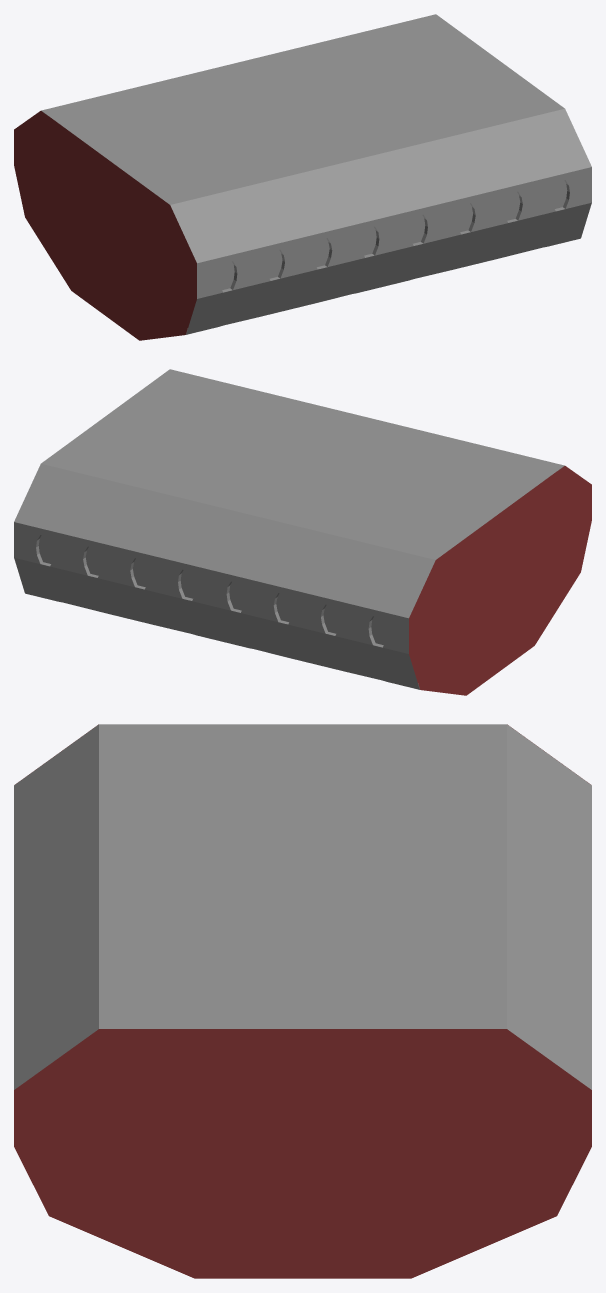
The model's file is shipp.FBX.
3 renders of one model, top to bottom at view 1: azimuth 30°, elevation 25°; view 2: azimuth 150°, elevation 25°; view 3: azimuth 270°, elevation 25°, orthographic. The views are drawn at different scales.
Visible parts, largest first — view 1: Environment_Environment_room_001, Object001_001; view 2: Environment_Environment_room_001, Object001_001; view 3: Environment_Environment_room_001, Object001_001.
Part boxes in pixels (x1=…): Environment_Environment_room_001: x1=41, y1=14, x2=591, y2=334; Object001_001: x1=14, y1=111, x2=196, y2=340; Environment_Environment_room_001: x1=14, y1=369, x2=564, y2=689; Object001_001: x1=409, y1=466, x2=591, y2=695; Environment_Environment_room_001: x1=14, y1=724, x2=591, y2=1089; Object001_001: x1=14, y1=724, x2=591, y2=1278.
Size of the model in its own units: 231 by 88.06 by 185.
